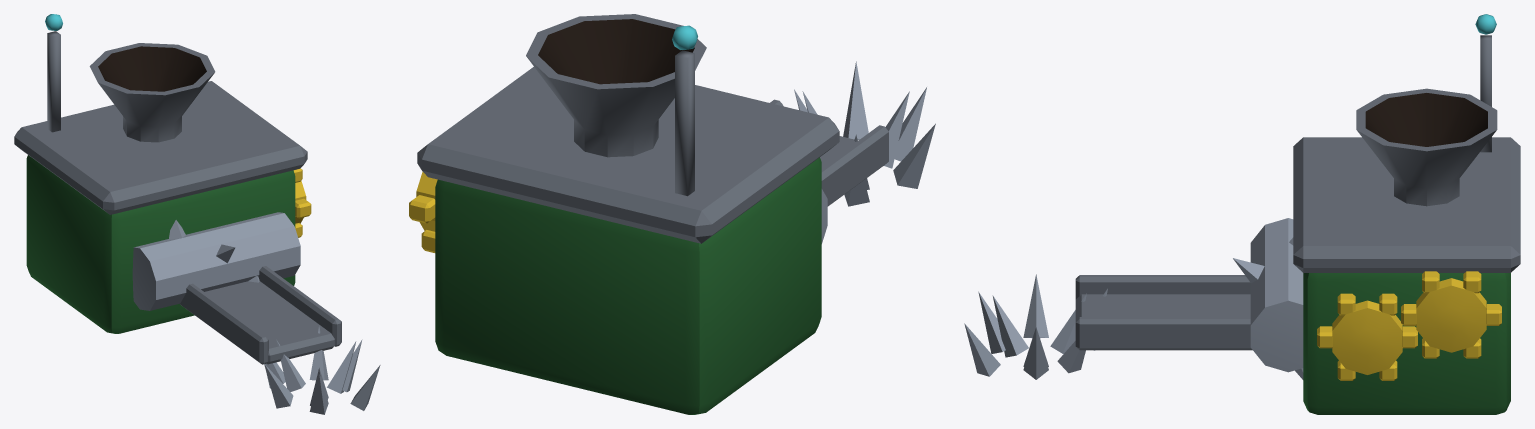
3 views of the same model, side by side, from view 1: azimuth 30°, elevation 25°; view 2: azimuth 150°, elevation 25°; view 3: azimuth 270°, elevation 25° (orthographic). The views are drawn at different scales.
Parts seen in each view (by area): view 1: espinhos_0_base, espinhos_1_torreta; view 2: espinhos_0_base, espinhos_1_torreta; view 3: espinhos_0_base, espinhos_1_torreta.
Boxes of the visible parts, bbox=[...] form: espinhos_0_base: bbox=[14, 14, 380, 414]; espinhos_1_torreta: bbox=[179, 266, 341, 364]; espinhos_0_base: bbox=[409, 14, 935, 414]; espinhos_1_torreta: bbox=[770, 99, 888, 206]; espinhos_0_base: bbox=[964, 14, 1520, 414]; espinhos_1_torreta: bbox=[1075, 275, 1252, 350].
Bounding box in the file's own units: 0.596 × 0.6918 × 1.13.
